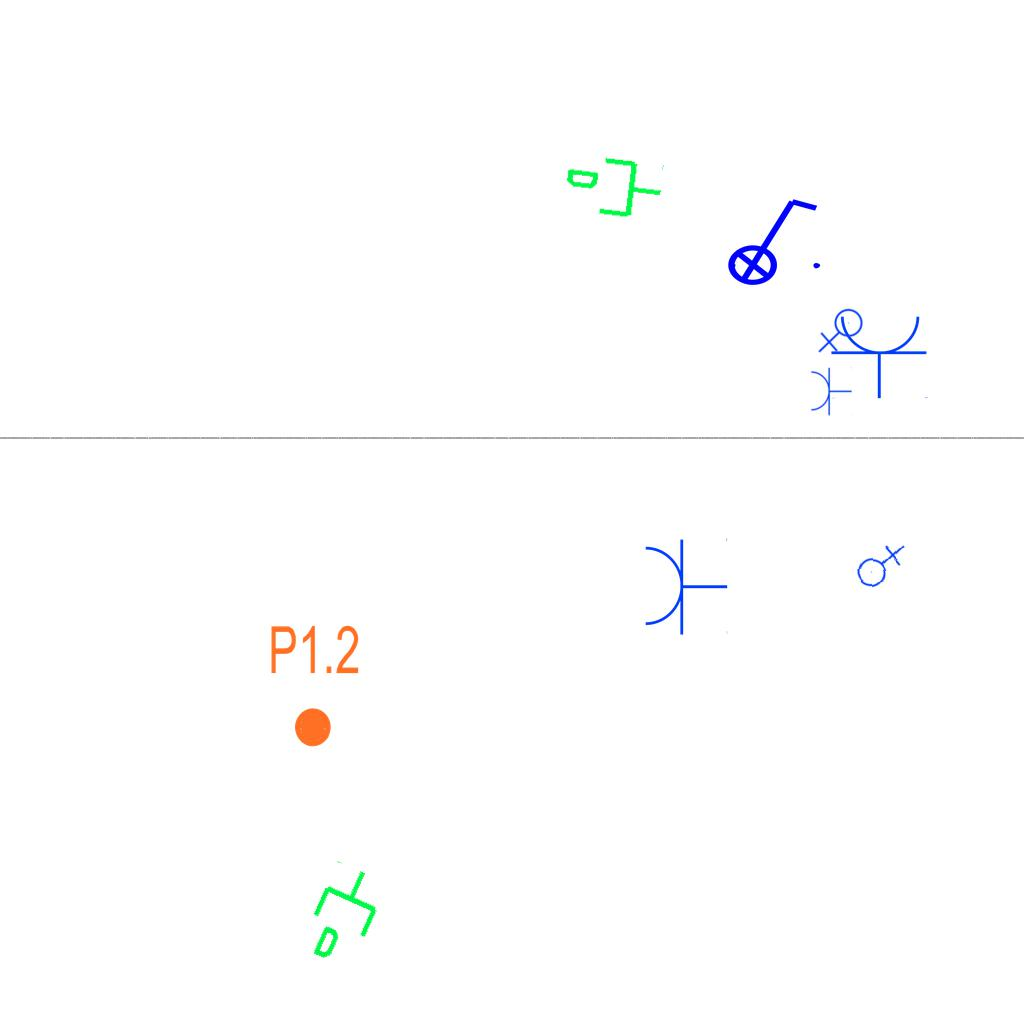Ausschalter_beleuchtet: (714, 191, 826, 287)
Datenanschluss_einfach: (293, 856, 398, 976), (559, 148, 668, 230)
Downlight_LED_Einbauleuchten_Flur: (268, 622, 361, 750)
Elektroanschluss_allgemein_230V_Geraeteanschlussdose_230V: (852, 538, 905, 591), (818, 308, 867, 355)
Schukosteckdose_einfach: (641, 536, 728, 636), (830, 312, 930, 399), (809, 366, 852, 416)
